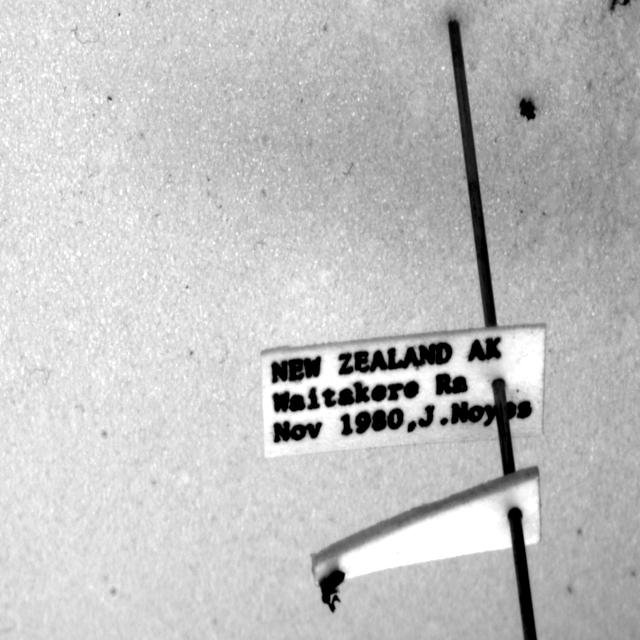typed_label: (261, 324, 545, 458)
